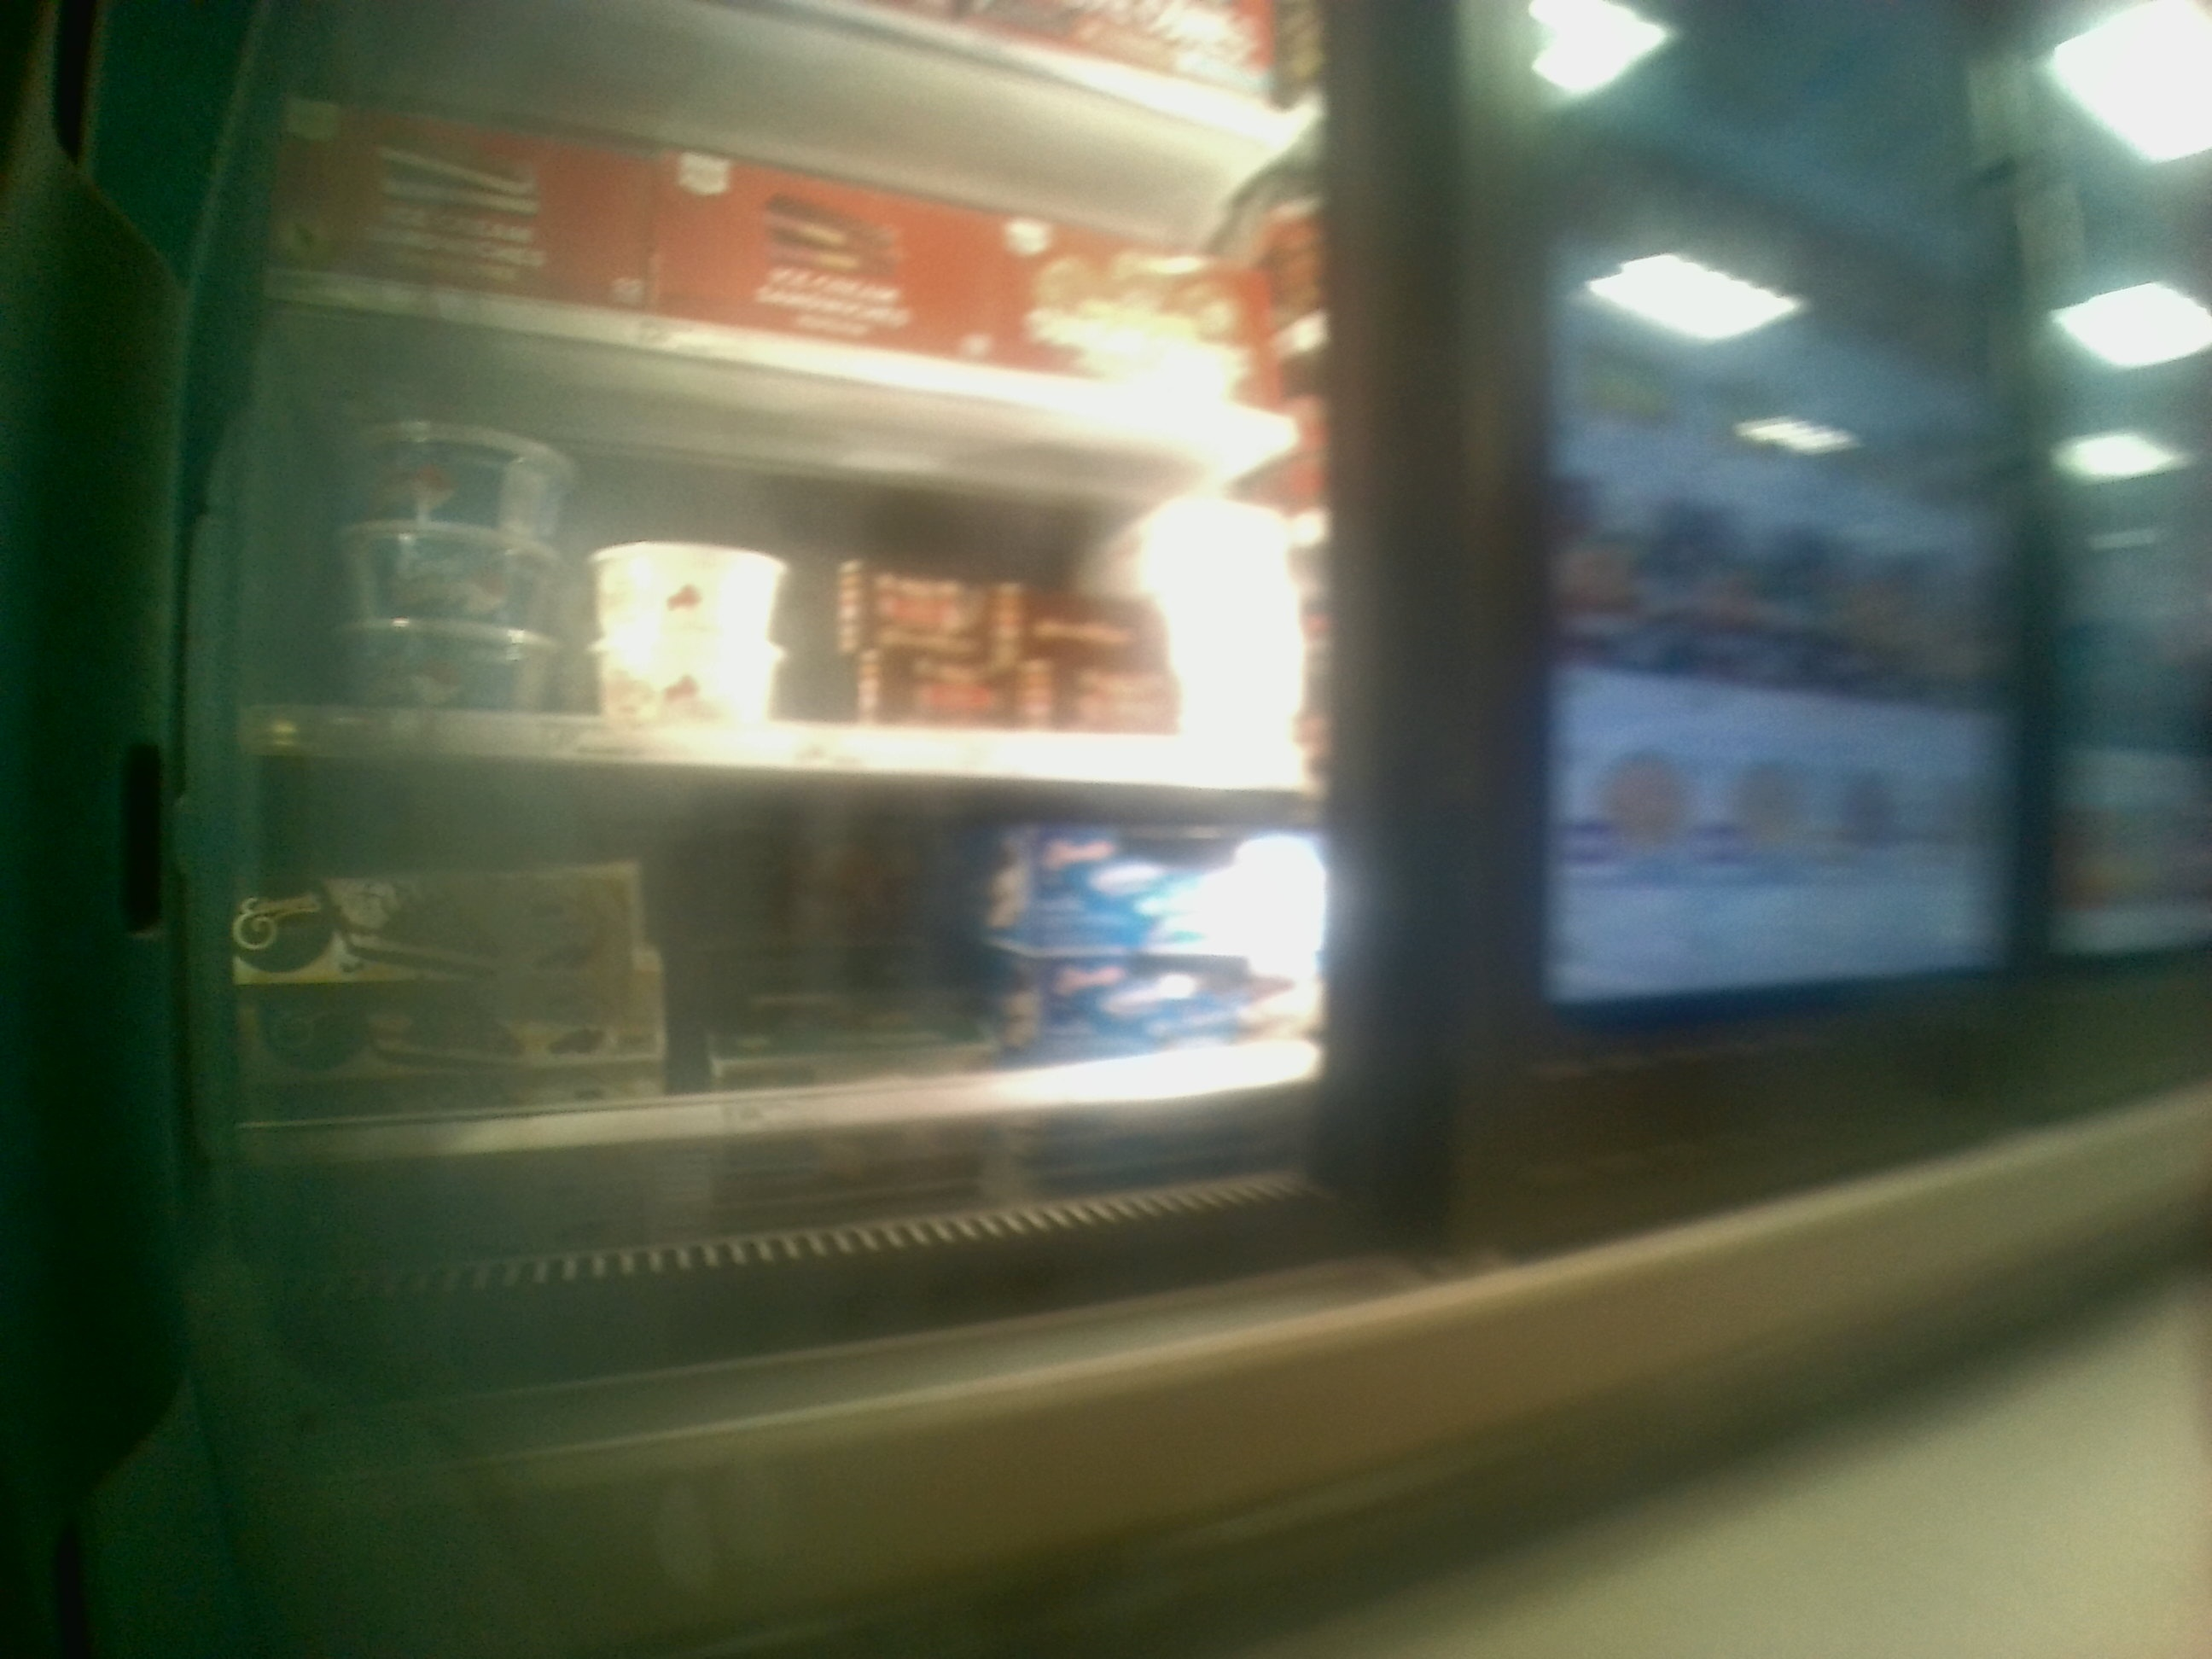shelf: (254, 300, 1327, 791), (228, 758, 1345, 1183)
